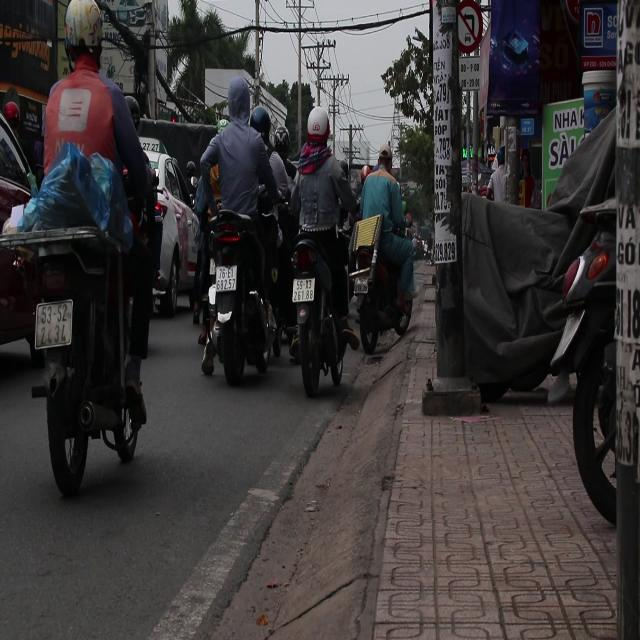car: (148, 157, 200, 320)
motorbike: (0, 124, 153, 494), (191, 206, 282, 381), (289, 232, 353, 410), (349, 216, 412, 358)
